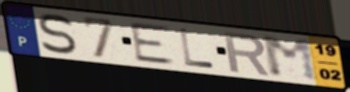7: (81, 15, 116, 61)
E: (128, 22, 178, 67)
L: (177, 27, 217, 70)
M: (259, 35, 322, 83)
R: (222, 30, 272, 77)
S: (37, 13, 79, 57)
